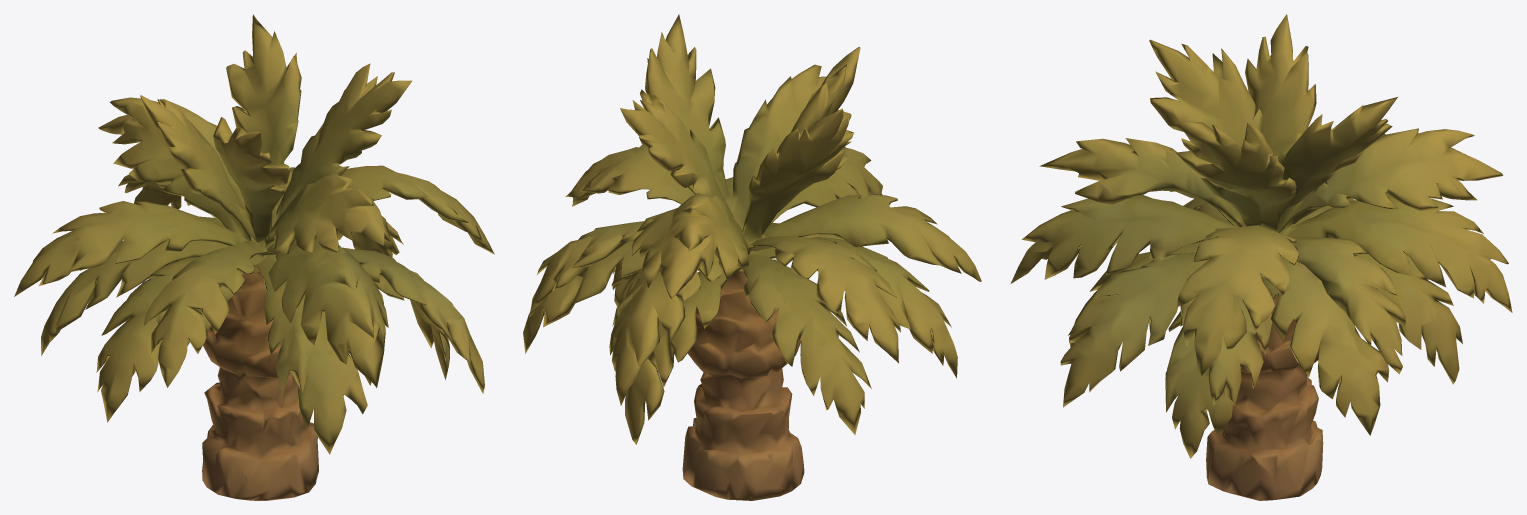
File: palm+tree+3d+model (1).glb
3 renders of one model, left to right at view 1: azimuth 30°, elevation 25°; view 2: azimuth 150°, elevation 25°; view 3: azimuth 270°, elevation 25°, orthographic.
Parts seen in each view (by area): view 1: tripo_node_74b8e809-d6de-4f6e-9510-0cd3c5c436e7; view 2: tripo_node_74b8e809-d6de-4f6e-9510-0cd3c5c436e7; view 3: tripo_node_74b8e809-d6de-4f6e-9510-0cd3c5c436e7.
Boxes of the visible parts, bbox=[...] form: tripo_node_74b8e809-d6de-4f6e-9510-0cd3c5c436e7: bbox=[14, 14, 494, 500]; tripo_node_74b8e809-d6de-4f6e-9510-0cd3c5c436e7: bbox=[523, 14, 981, 500]; tripo_node_74b8e809-d6de-4f6e-9510-0cd3c5c436e7: bbox=[1010, 14, 1512, 500].
Bounding box in the file's own units: 0.9398 × 0.8972 × 1.
Materials: 1 (1 with a texture image).
